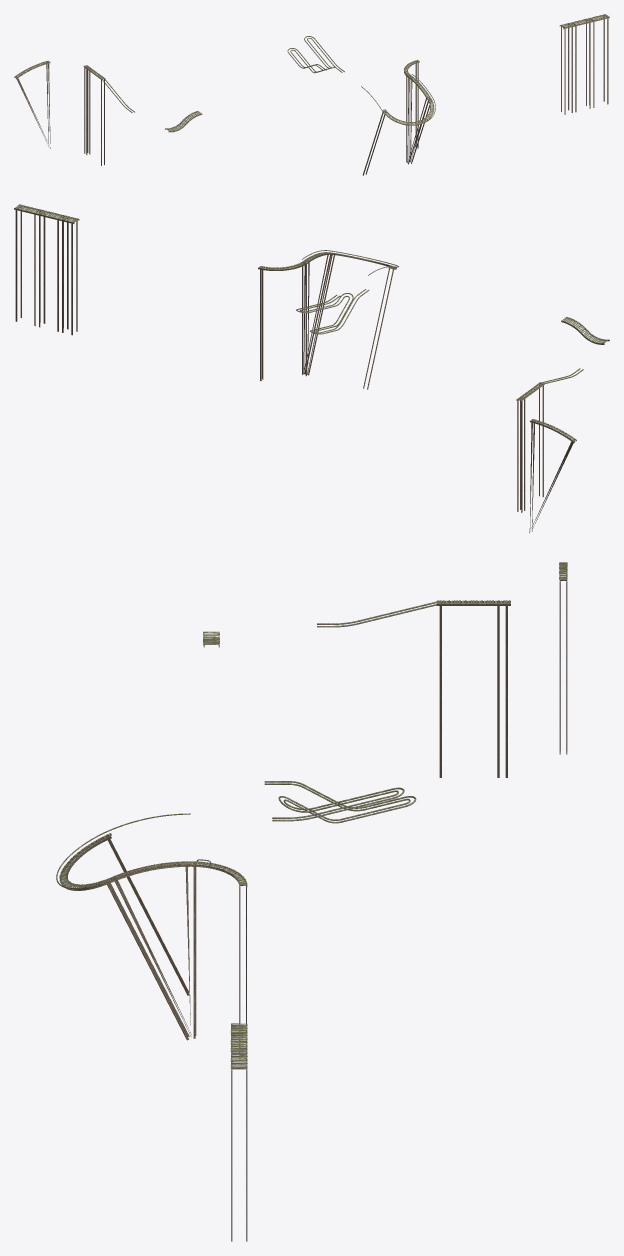
The model's file is boss 2.fbx.
3 views of the same model, one above another, from view 1: azimuth 30°, elevation 25°; view 2: azimuth 150°, elevation 25°; view 3: azimuth 270°, elevation 25° (orthographic). The views are drawn at different scales.
Visible parts, largest first — view 1: Ramp.009, Ramp.003, Ramp.034, Ramp.032, Ramp.010, Ramp.005, pipe.006, Ramp.033; view 2: Ramp.009, Ramp.003, Ramp.032, Ramp.034, Ramp.010, Ramp.005, Ramp.033, pipe.006; view 3: pipe.006, Ramp.034, Ramp.003, Ramp.032, Ramp.009, Ramp.033.
Boxes of the visible parts, bbox=[...] form: Ramp.009: bbox=[570, 14, 609, 112]; Ramp.003: bbox=[83, 65, 105, 165]; Ramp.034: bbox=[363, 98, 434, 175]; Ramp.032: bbox=[404, 60, 419, 162]; Ramp.010: bbox=[559, 23, 574, 114]; Ramp.005: bbox=[14, 60, 50, 148]; pipe.006: bbox=[287, 36, 344, 73]; Ramp.033: bbox=[407, 75, 430, 162]; Ramp.009: bbox=[14, 204, 65, 331]; Ramp.003: bbox=[516, 382, 544, 512]; Ramp.032: bbox=[258, 261, 307, 380]; Ramp.034: bbox=[304, 252, 396, 389]; Ramp.010: bbox=[60, 215, 79, 335]; Ramp.005: bbox=[529, 419, 576, 533]; Ramp.033: bbox=[303, 252, 333, 374]; pipe.006: bbox=[296, 289, 369, 334]; pipe.006: bbox=[264, 781, 416, 823]; Ramp.034: bbox=[59, 833, 189, 1040]; Ramp.003: bbox=[436, 600, 510, 777]; Ramp.032: bbox=[190, 861, 247, 1058]; Ramp.009: bbox=[230, 1034, 247, 1241]; Ramp.033: bbox=[111, 861, 191, 1037].
Size of the model in its own units: 14330 by 2688 by 6200.
